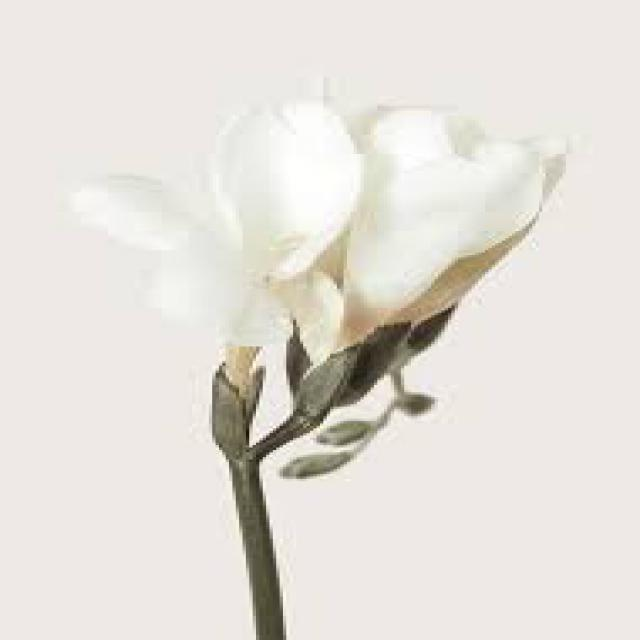freesia: (55, 72, 620, 484)
